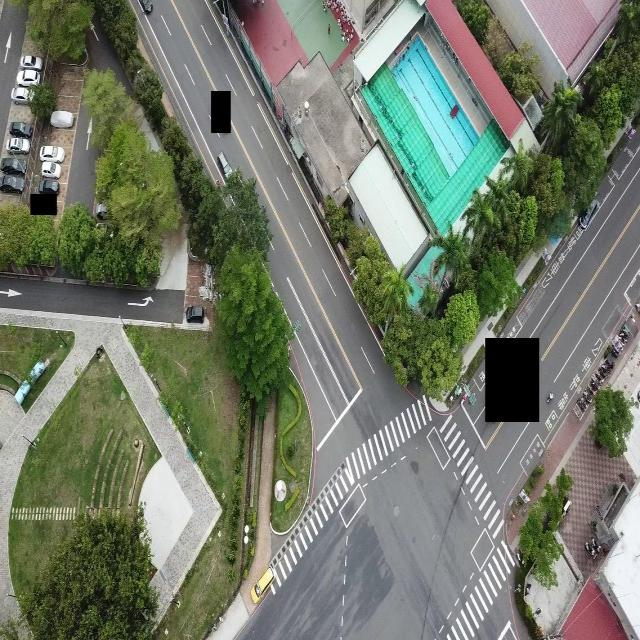bike: (590, 534, 602, 554), (584, 542, 596, 560), (576, 397, 586, 412), (582, 390, 592, 404), (587, 382, 597, 396), (546, 391, 555, 404), (460, 393, 468, 407), (591, 377, 600, 389)
car: (250, 565, 275, 602), (48, 108, 76, 131), (13, 65, 43, 86), (578, 197, 598, 228), (0, 175, 25, 197), (1, 154, 27, 175), (7, 119, 35, 138), (38, 142, 64, 162), (9, 85, 33, 106), (36, 177, 61, 196), (184, 304, 207, 324), (217, 150, 230, 177), (138, 0, 153, 18)
